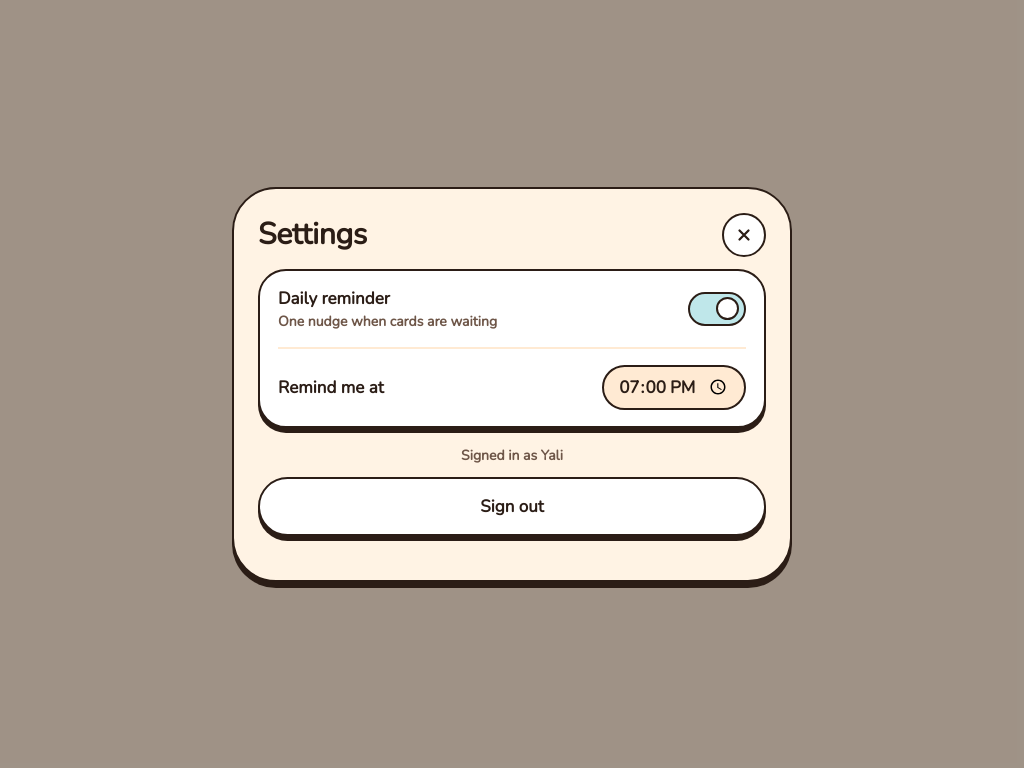
Test: SettingsSheet (canvas N13) › switching off saves at once and greys out the time
Step 1. Click the switch named "Daily reminder" → (717, 308), box left=688, top=292, right=746, bottom=326
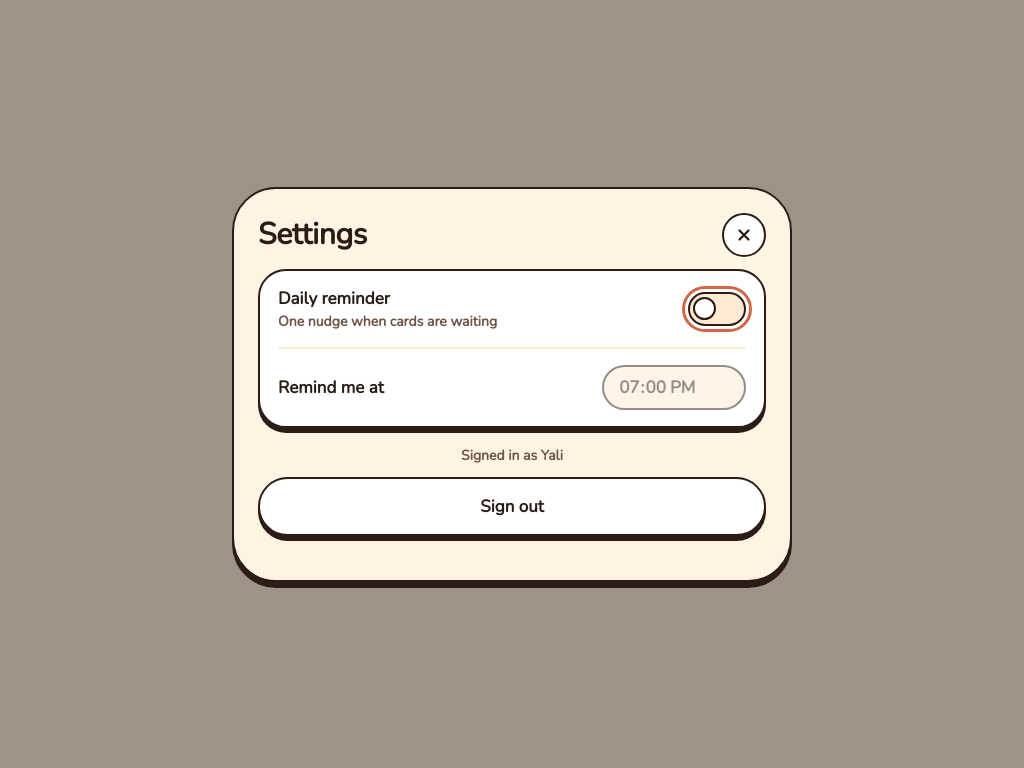
Result: the time field labelled "Remind me at" is disabled at left=602, top=364, right=746, bottom=410
